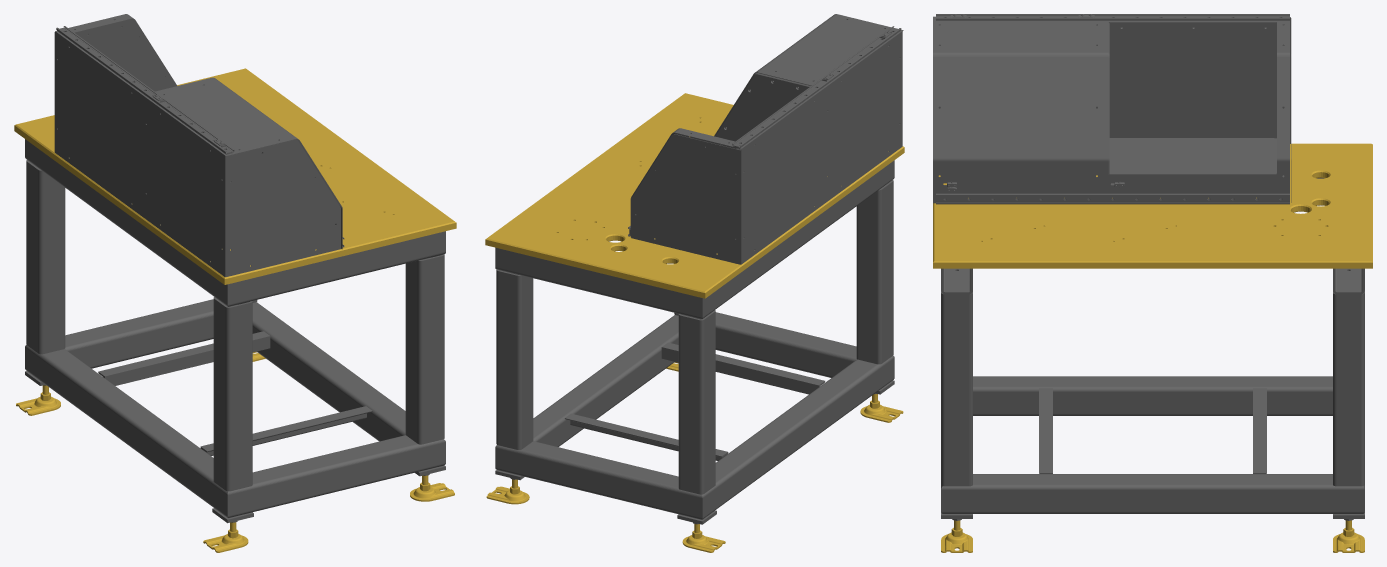
The model's file is shunk_machine_nodoor_nolathe.dae.
3 views of the same model, side by side, from view 1: azimuth 30°, elevation 25°; view 2: azimuth 150°, elevation 25°; view 3: azimuth 270°, elevation 25° (orthographic). The views are drawn at different scales.
Visible parts, largest first — view 1: node0, node4, node51, node55, node63, node49, node57, node59, node16, node7, node13; view 2: node0, node4, node53, node55, node63, node49, node45, node59, node10, node13, node16; view 3: node0, node49, node4, node57, node47, node61, node59, node7, node10.
Boxes of the visible parts, <box> form: node0: <box>25,139,445,523</box>; node4: <box>14,68,456,284</box>; node51: <box>225,139,340,276</box>; node55: <box>54,32,146,219</box>; node63: <box>146,98,225,276</box>; node49: <box>55,14,342,249</box>; node57: <box>75,19,176,91</box>; node59: <box>56,26,234,154</box>; node16: <box>203,522,248,552</box>; node7: <box>410,475,454,501</box>; node13: <box>16,385,60,415</box>; node0: <box>495,160,894,524</box>; node4: <box>485,93,904,298</box>; node53: <box>631,134,740,264</box>; node55: <box>740,86,827,264</box>; node63: <box>827,32,902,200</box>; node49: <box>630,14,903,237</box>; node45: <box>714,72,810,144</box>; node59: <box>732,26,901,148</box>; node10: <box>486,479,529,504</box>; node13: <box>682,524,725,552</box>; node16: <box>860,394,903,422</box>; node0: <box>941,177,1364,518</box>; node49: <box>933,16,1289,203</box>; node4: <box>933,143,1372,268</box>; node57: <box>1109,22,1276,137</box>; node47: <box>1109,138,1284,184</box>; node61: <box>936,193,1289,204</box>; node59: <box>936,14,1289,20</box>; node7: <box>941,520,972,552</box>; node10: <box>1333,520,1364,552</box>.
Bounding box in the file's own units: 0.72 × 1.1 × 1.17.
